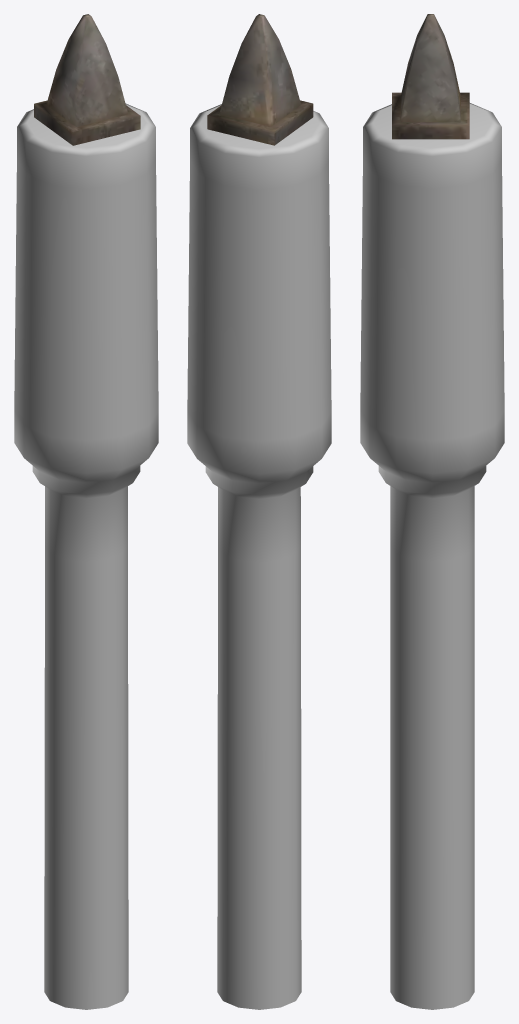
3 views of the same model, side by side, from view 1: azimuth 30°, elevation 25°; view 2: azimuth 150°, elevation 25°; view 3: azimuth 270°, elevation 25° (orthographic).
Parts seen in each view (by area): view 1: SM_DR_Lever_01_Lever_LOD0; view 2: SM_DR_Lever_01_Lever_LOD0; view 3: SM_DR_Lever_01_Lever_LOD0.
Part boxes in pixels (x1,y1,x2,y2): SM_DR_Lever_01_Lever_LOD0: (14, 14, 158, 1009); SM_DR_Lever_01_Lever_LOD0: (187, 14, 331, 1009); SM_DR_Lever_01_Lever_LOD0: (360, 14, 504, 1009).
Size of the model in its own units: 0.1552 by 1.16 by 0.1552.
